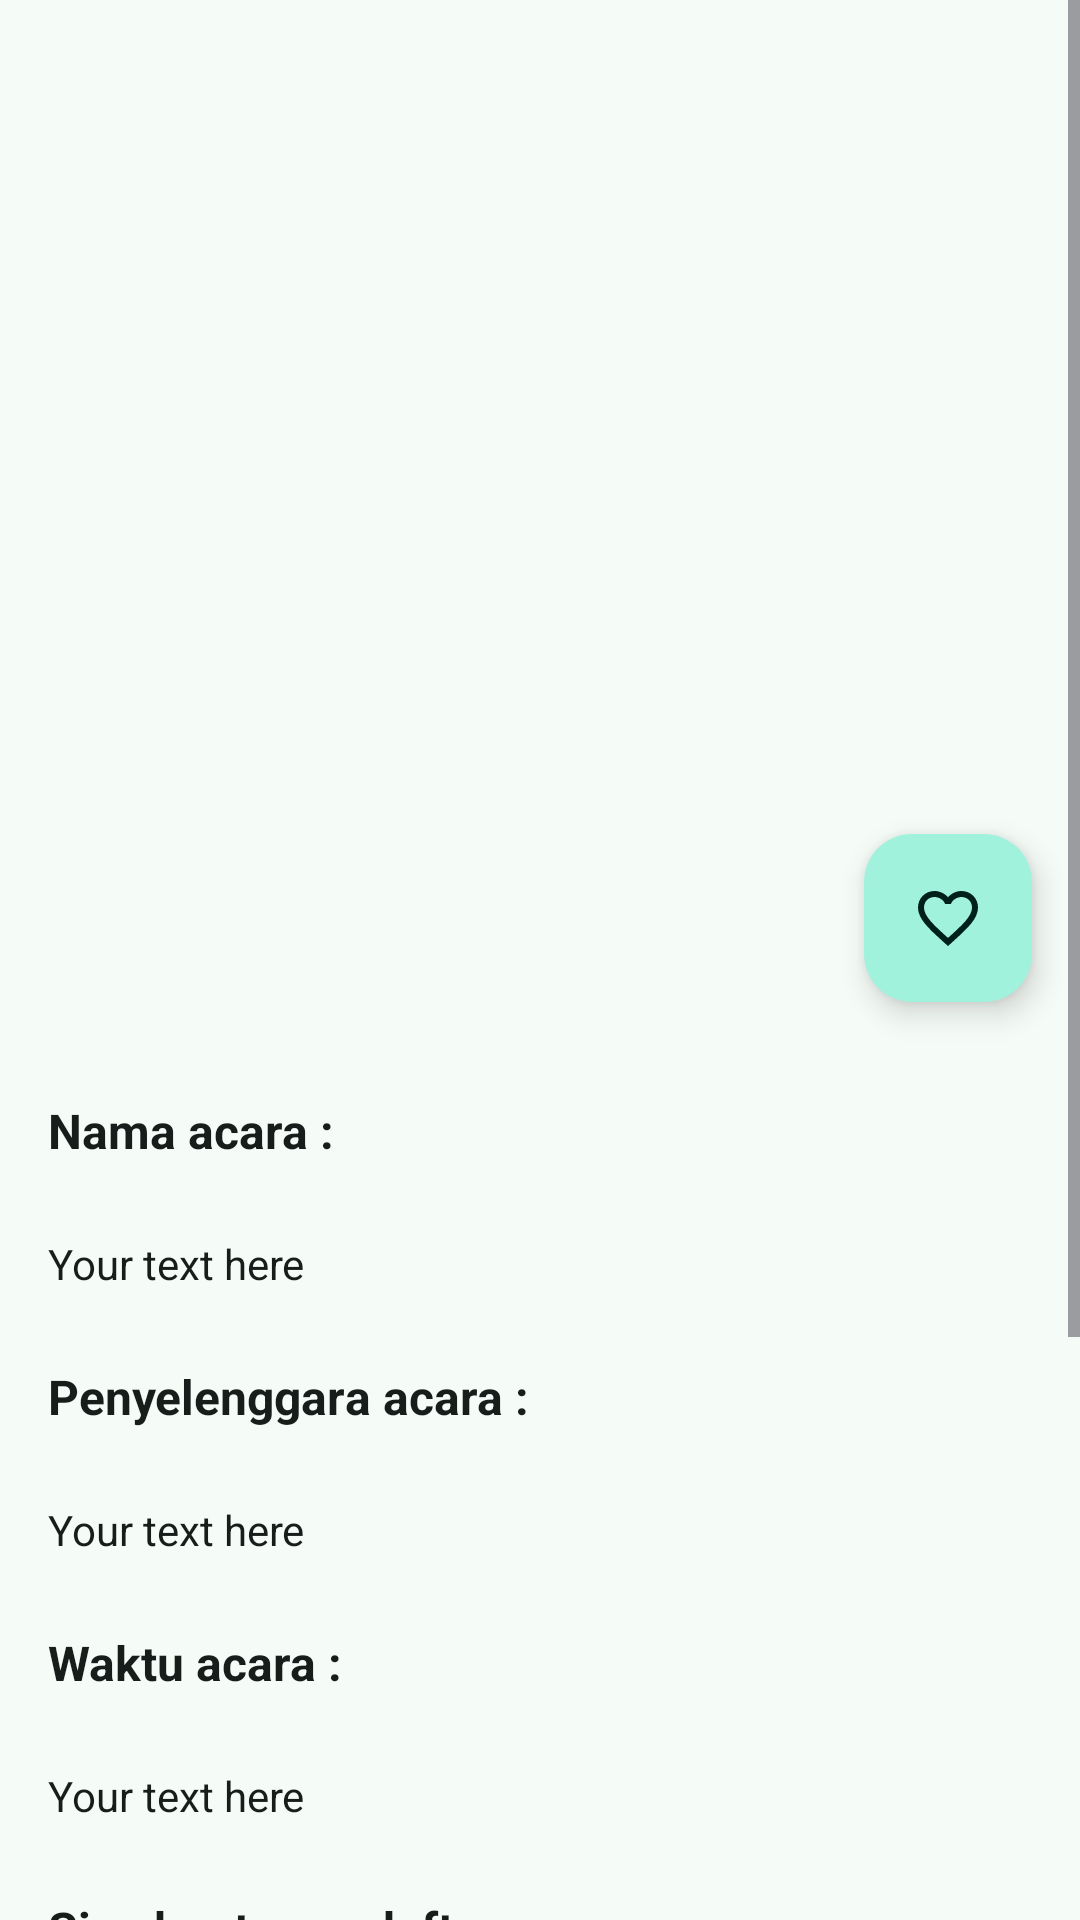

Icon click points for this 1080×1920 phone screenshot, format point (x, y):
Favorite button: point (948, 918)
